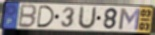3: (60, 6, 76, 29)
8: (103, 7, 119, 30)
B: (17, 3, 39, 29)
D: (37, 5, 56, 28)
M: (118, 7, 142, 31)
U: (77, 6, 98, 30)
